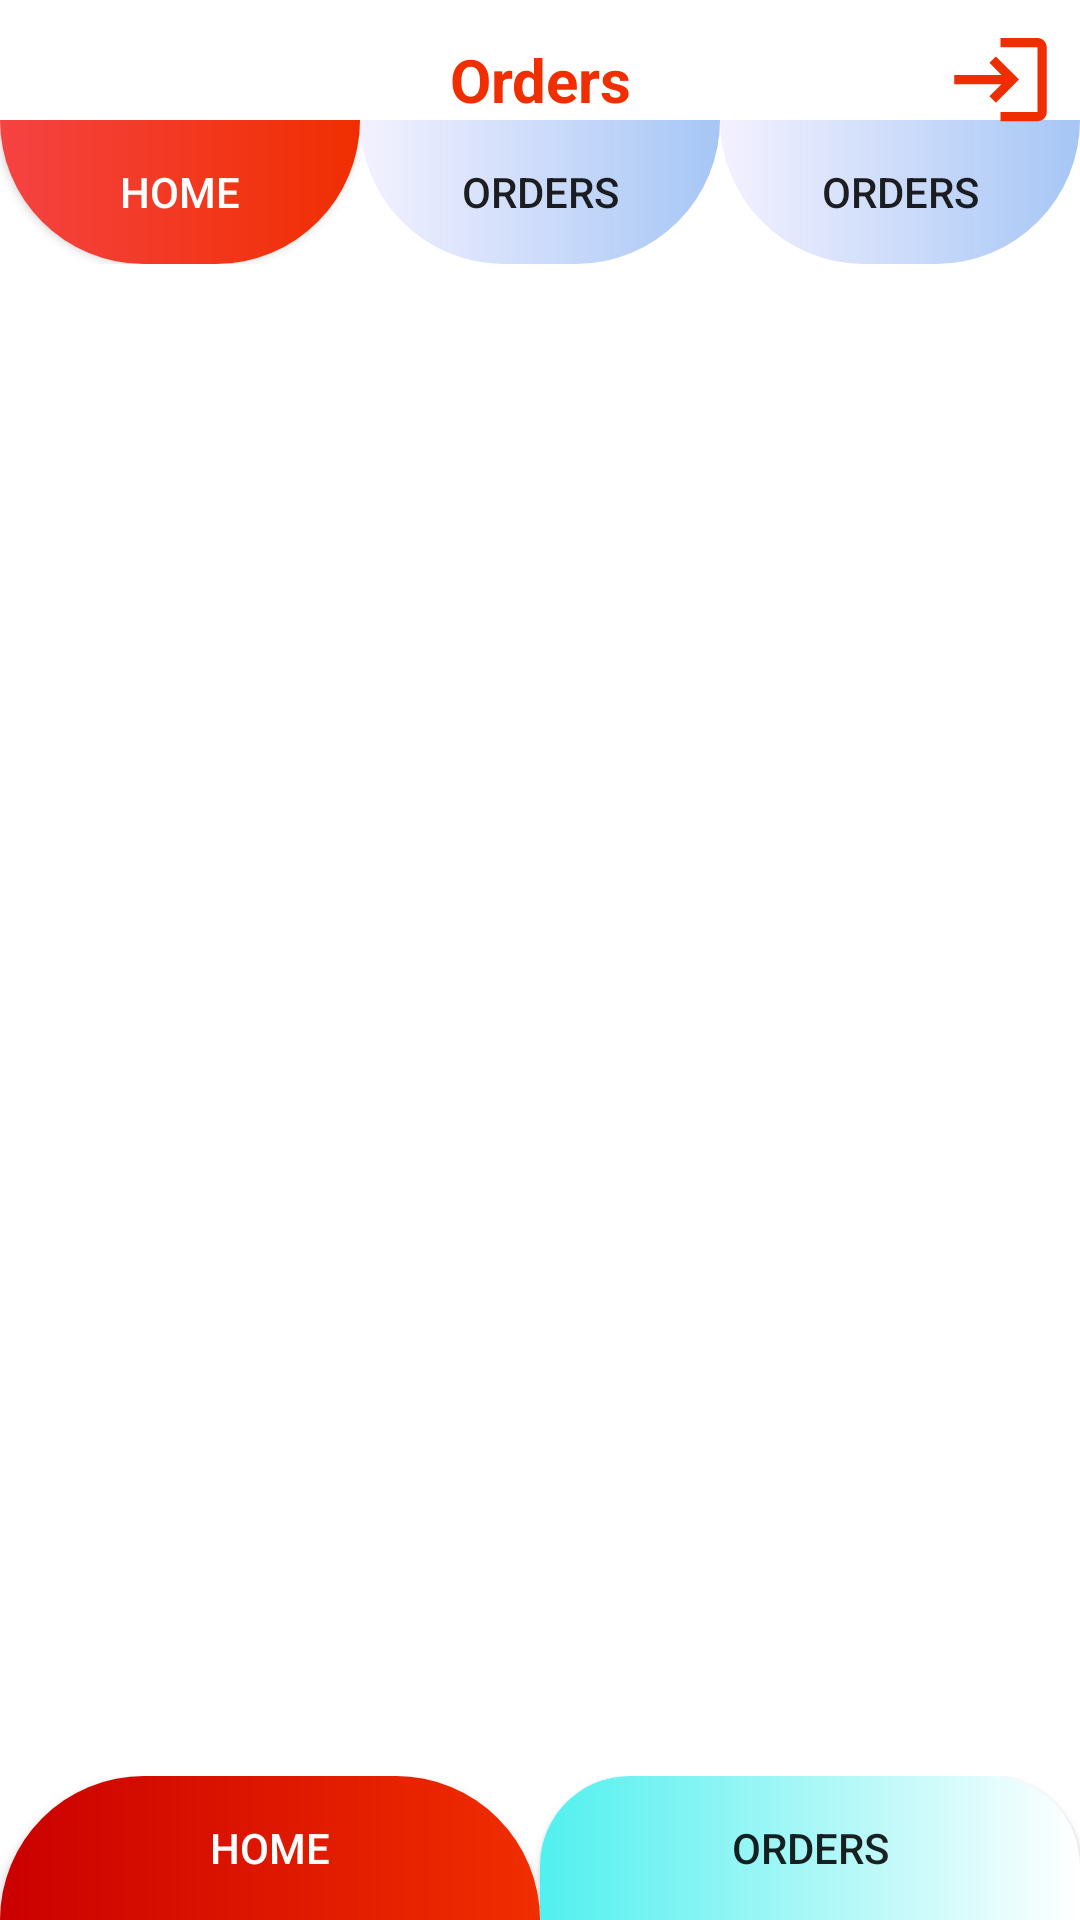

Locate icon controls on the screen. Image size 1080*1920, boxes as (x1, y1, x2, y2).
login: (945, 38, 1056, 135)
